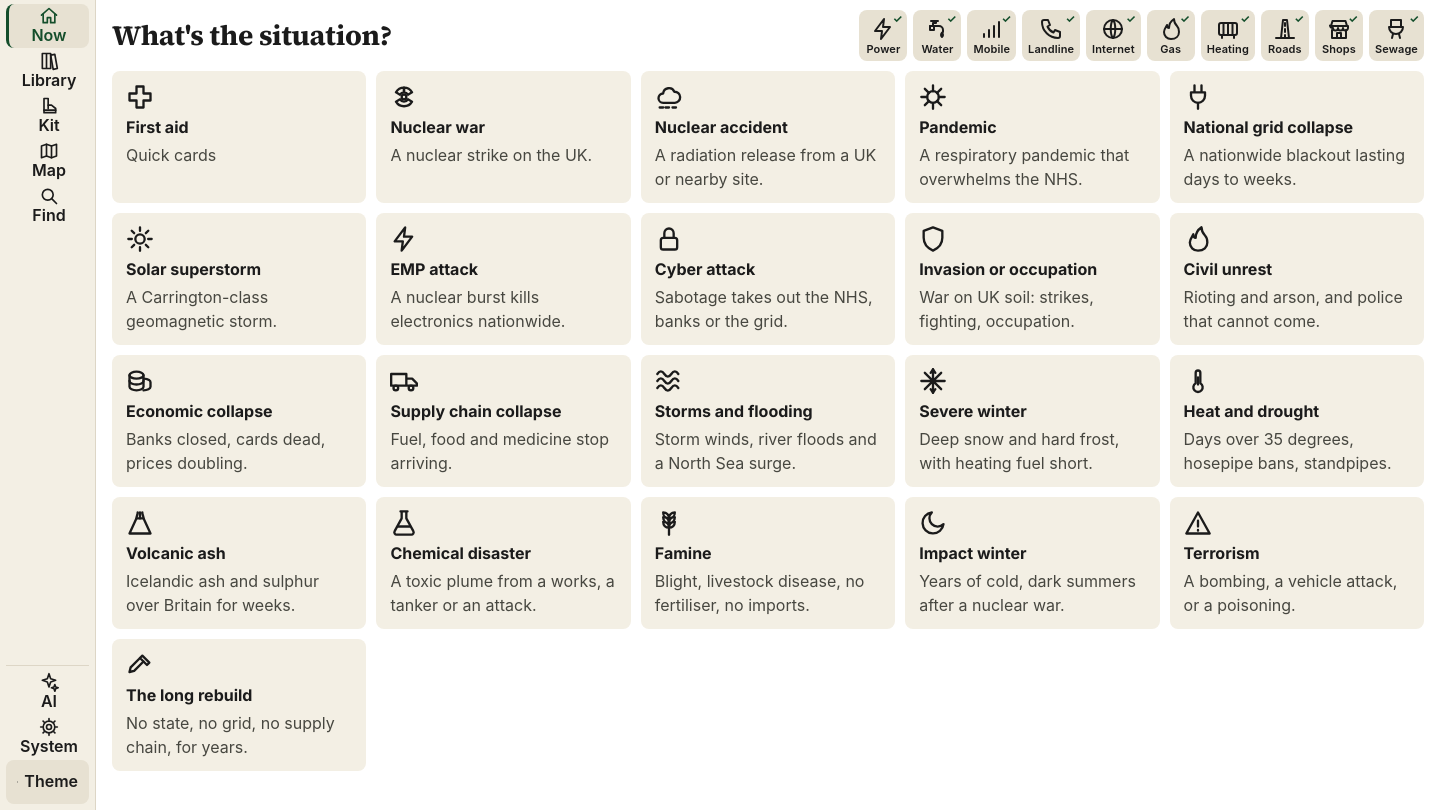
Scenario: scroll to top on navigation › resets the main container when a link opens a new screen
Click the link "National grid collapse": (1297, 137) [1170, 71, 1424, 203]
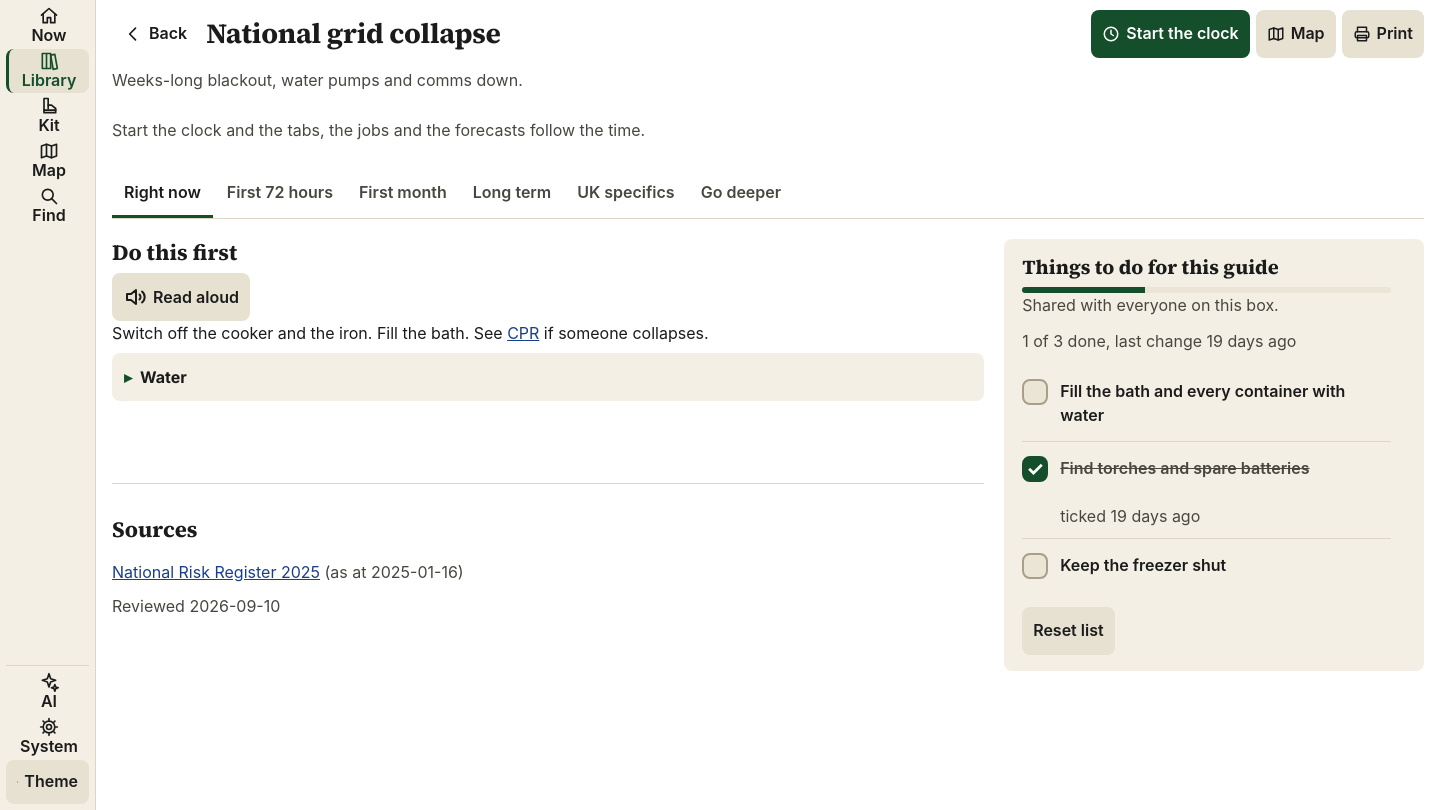
Result: the heading "National grid collapse" is shown at [206, 14, 501, 52]
